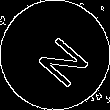N_NW: (23, 23, 87, 87)
